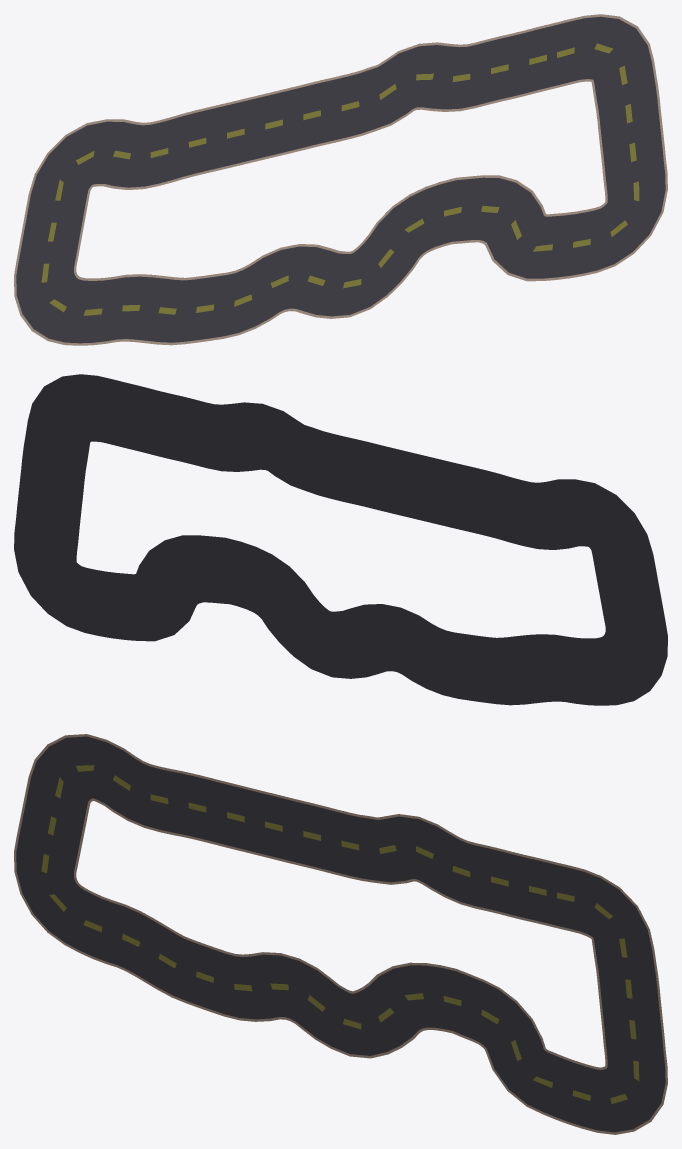
File: track.obj
3 views of the same model, one above another, from view 1: azimuth 30°, elevation 25°; view 2: azimuth 150°, elevation 25°; view 3: azimuth 330°, elevation 25° (orthographic).
Size of the model in its own units: 11.13 by 4.46 by 0.002.
